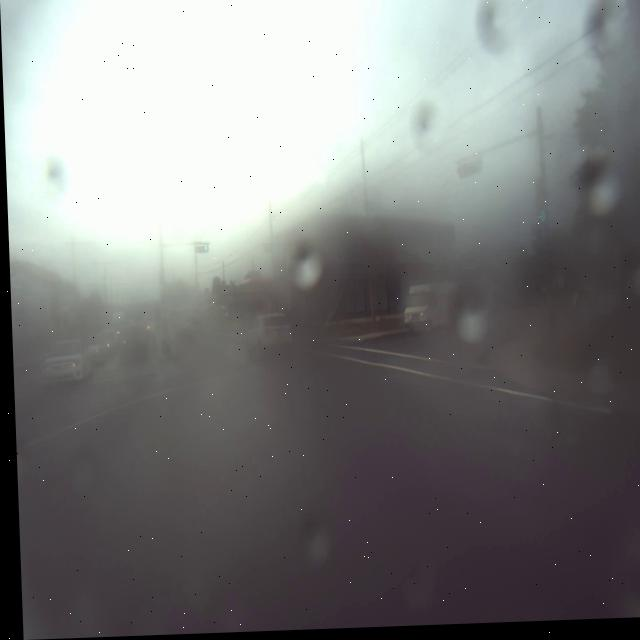car: (242, 306, 290, 356)
